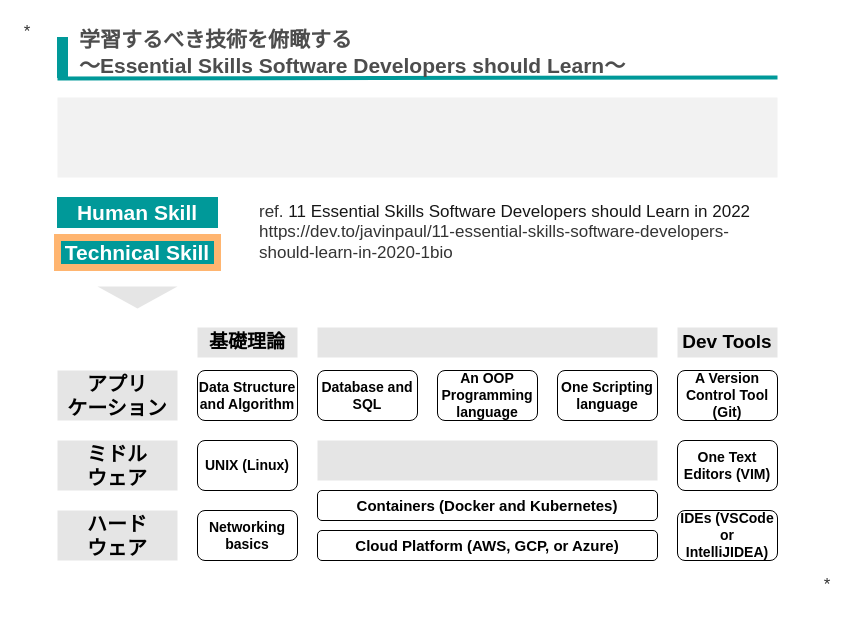
This 854x617 diagram has some shape labels left out. Here are the shapes that lost their labels. From the top down, the box of each, then its label:
(57, 97, 777, 177): 今後のキャリアのために我々ソフトウェアエンジニアは何を学ぶべきか？を俯瞰する。 各領域の概念及び技術要素を深堀するための足掛かりとする。
(317, 327, 657, 357): PG言語
(317, 440, 657, 480): Cloud Nativeな技術
